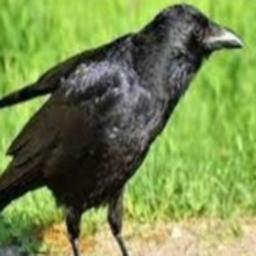Crow: (0, 3, 249, 256)
